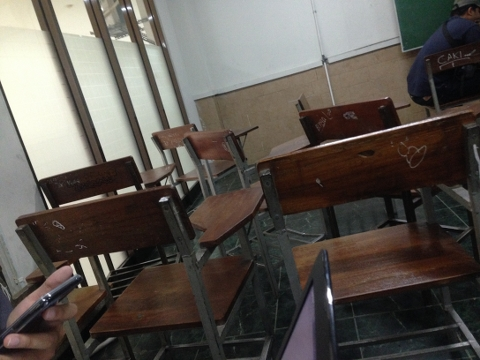kursi: (256, 110, 480, 352), (16, 184, 277, 360)
